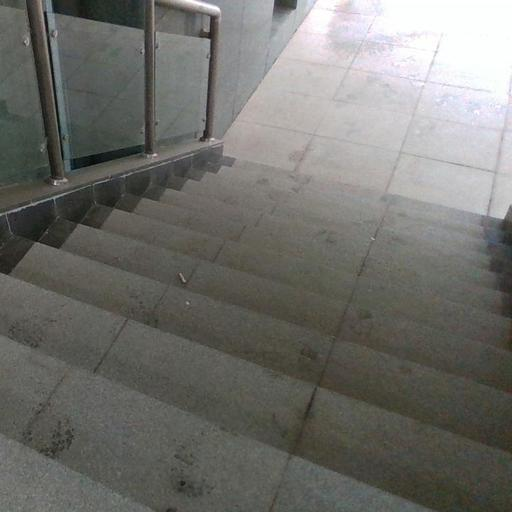Stairs: (0, 150, 512, 512)
